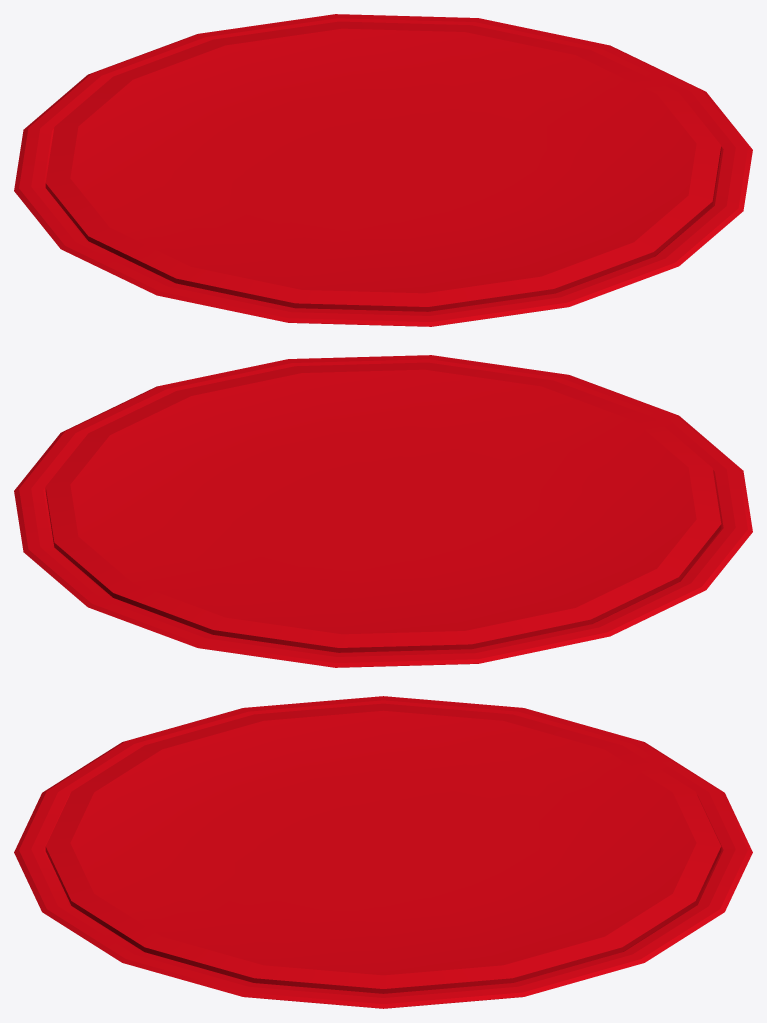
The model's file is HSBC Entorno_10_CAPAS_DISCO.fbx.
3 views of the same model, one above another, from view 1: azimuth 30°, elevation 25°; view 2: azimuth 150°, elevation 25°; view 3: azimuth 270°, elevation 25° (orthographic).
Visible parts, largest first — view 1: boton_en_el_piso.001; view 2: boton_en_el_piso.001; view 3: boton_en_el_piso.001.
Part boxes in pixels (x1,y1,x2,y2): boton_en_el_piso.001: (14,14,752,326); boton_en_el_piso.001: (14,355,752,667); boton_en_el_piso.001: (14,696,752,1008).
Size of what is drawn, in the model's own units: 292 by 5.55 by 292.
